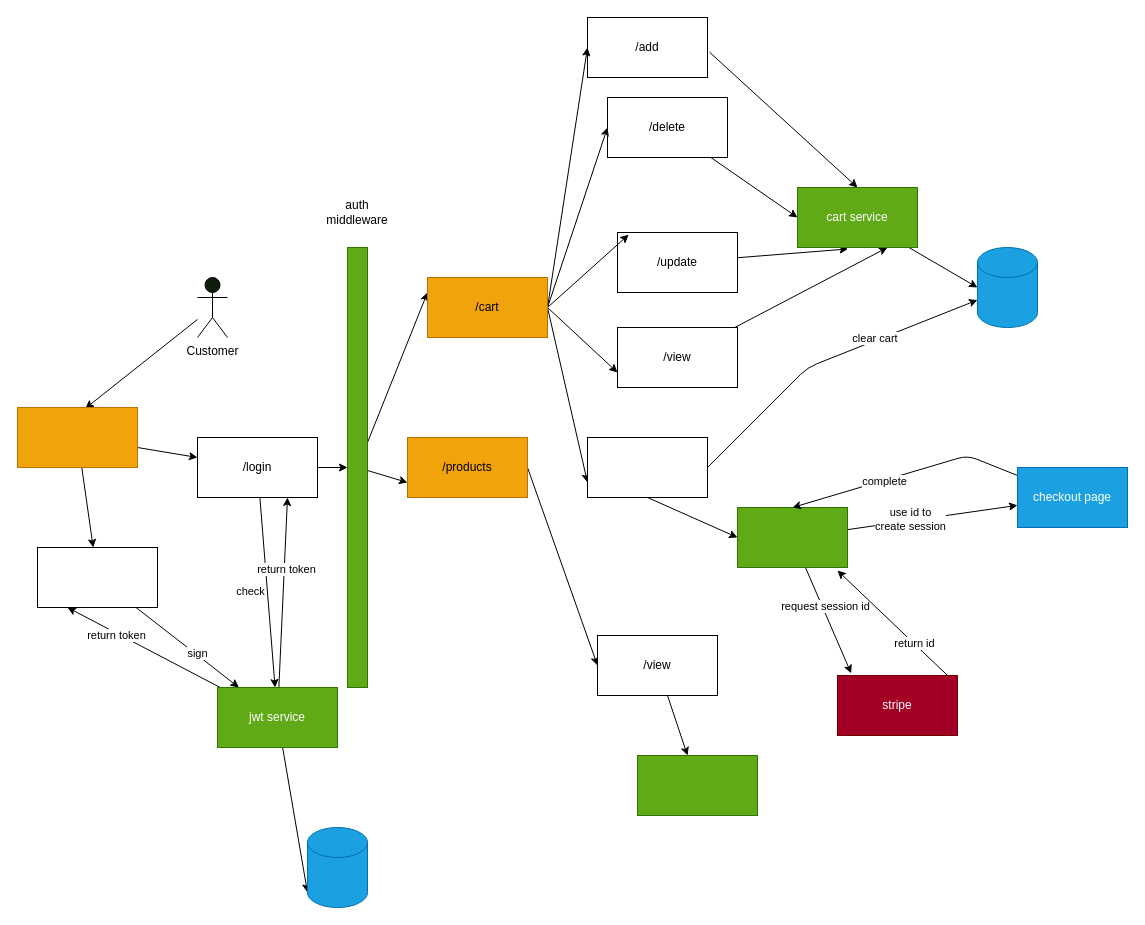
This 1145x925 diagram has some shape labels left out. The centre of each missing label's shape, as x and y in pixels:
"/auth" belongs at point 77,437.
"/checkout" belongs at point 647,467.
"/sign-up" belongs at point 97,577.
"cart" belongs at point 1007,287.
"payment service" belongs at point 792,537.
"product service" belongs at point 697,785.
"user" belongs at point 337,867.
